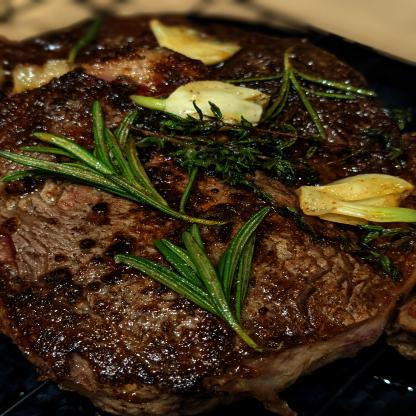Carne: (1, 21, 415, 405)
